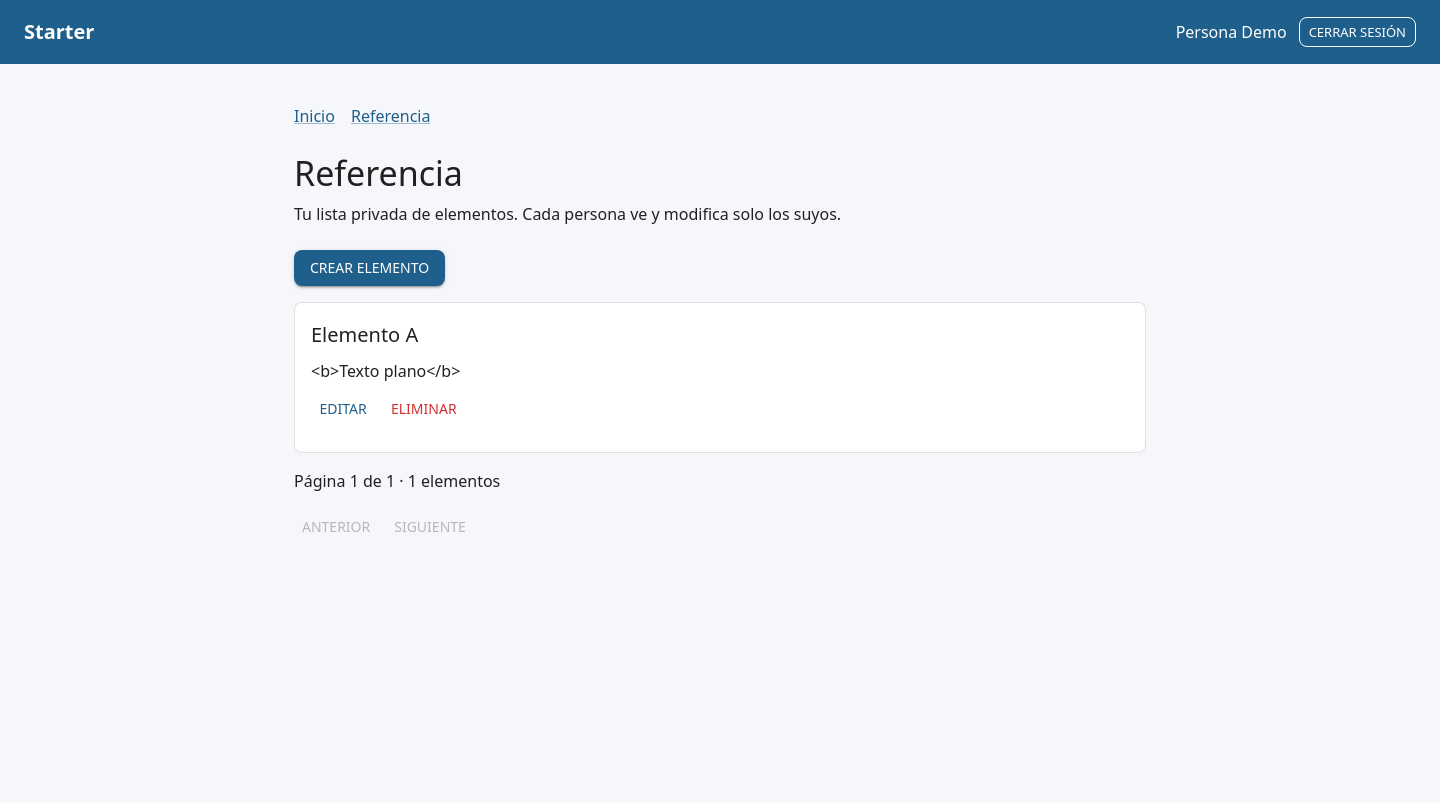
Test case: ReferencePage › edits and confirms deletion with keyboard, cancellation and restored focus
The width and height of the screenshot is (1440, 803).
Expected: the heading "Elemento A" is shown, [311,322,418,348]
Click the button with aria-label "Editar Elemento A": x=343, y=410 [311,392,375,428]
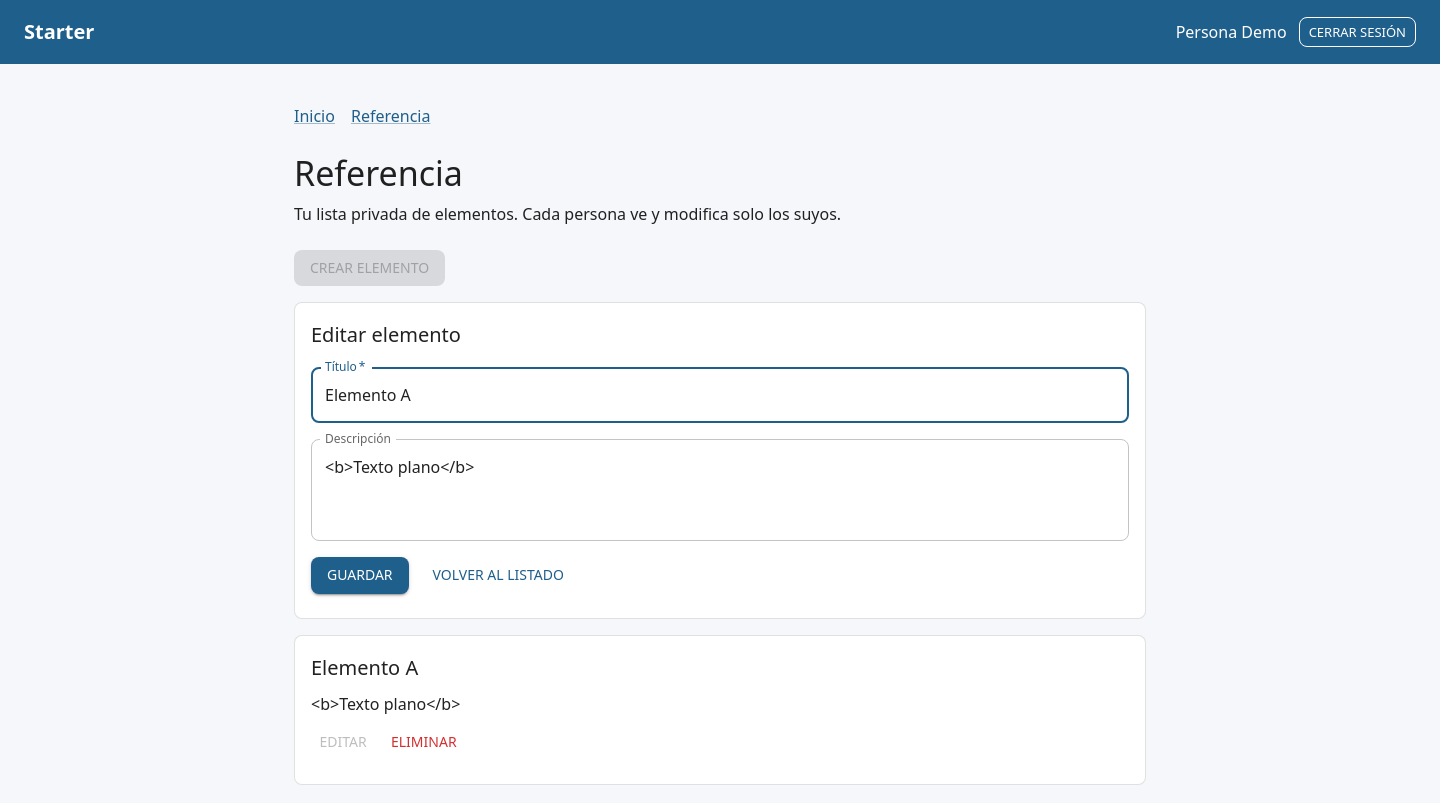
Replace the text in the field labelled "Título *" with "Elemento editado": x=720, y=396 [311,368,1129,424]
Click the button "Guardar": x=360, y=576 [311,558,408,594]
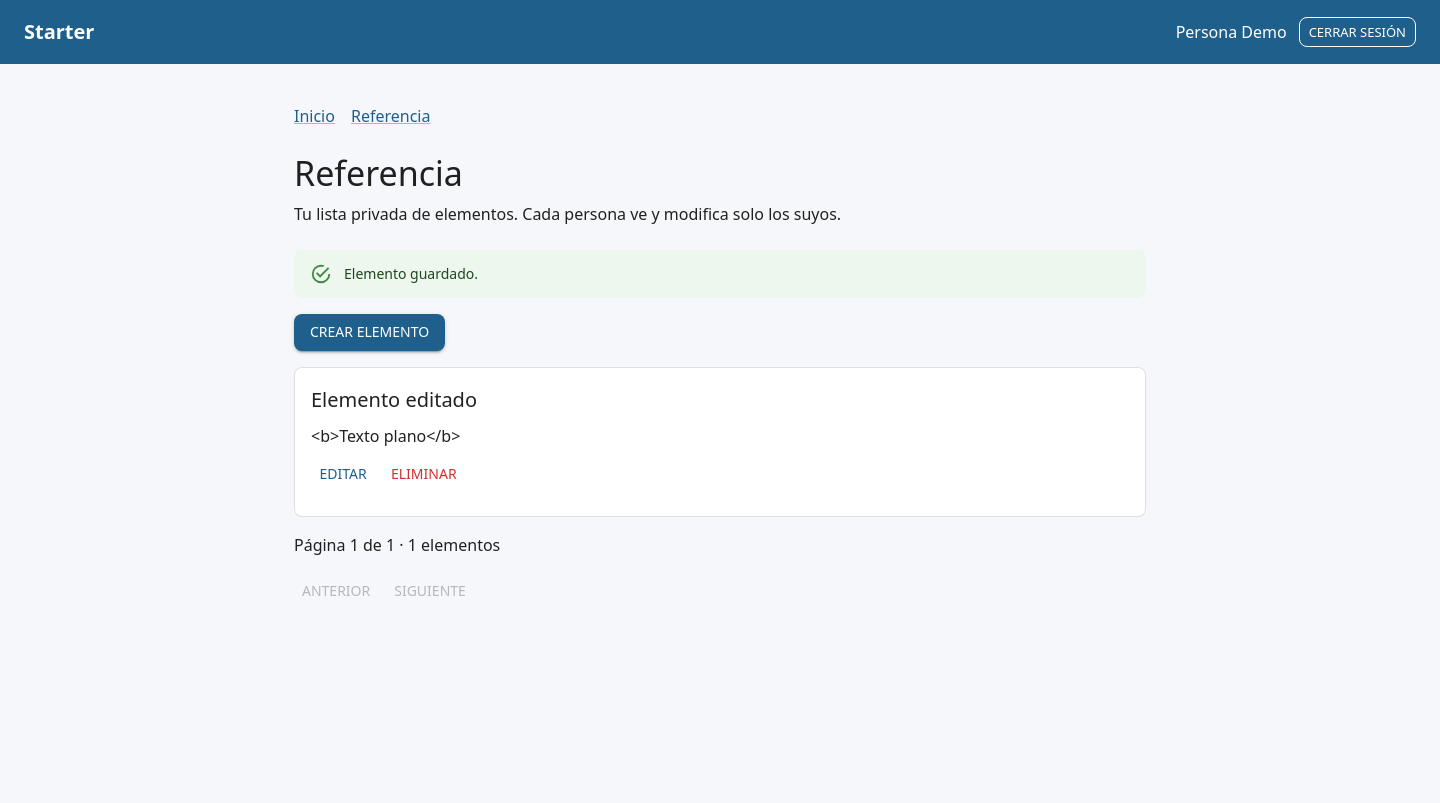
Expected: the heading "Elemento editado" is shown, [311,386,477,412]
Click the button with aria-label "Eliminar Elemento editado": x=424, y=474 [383,456,465,492]
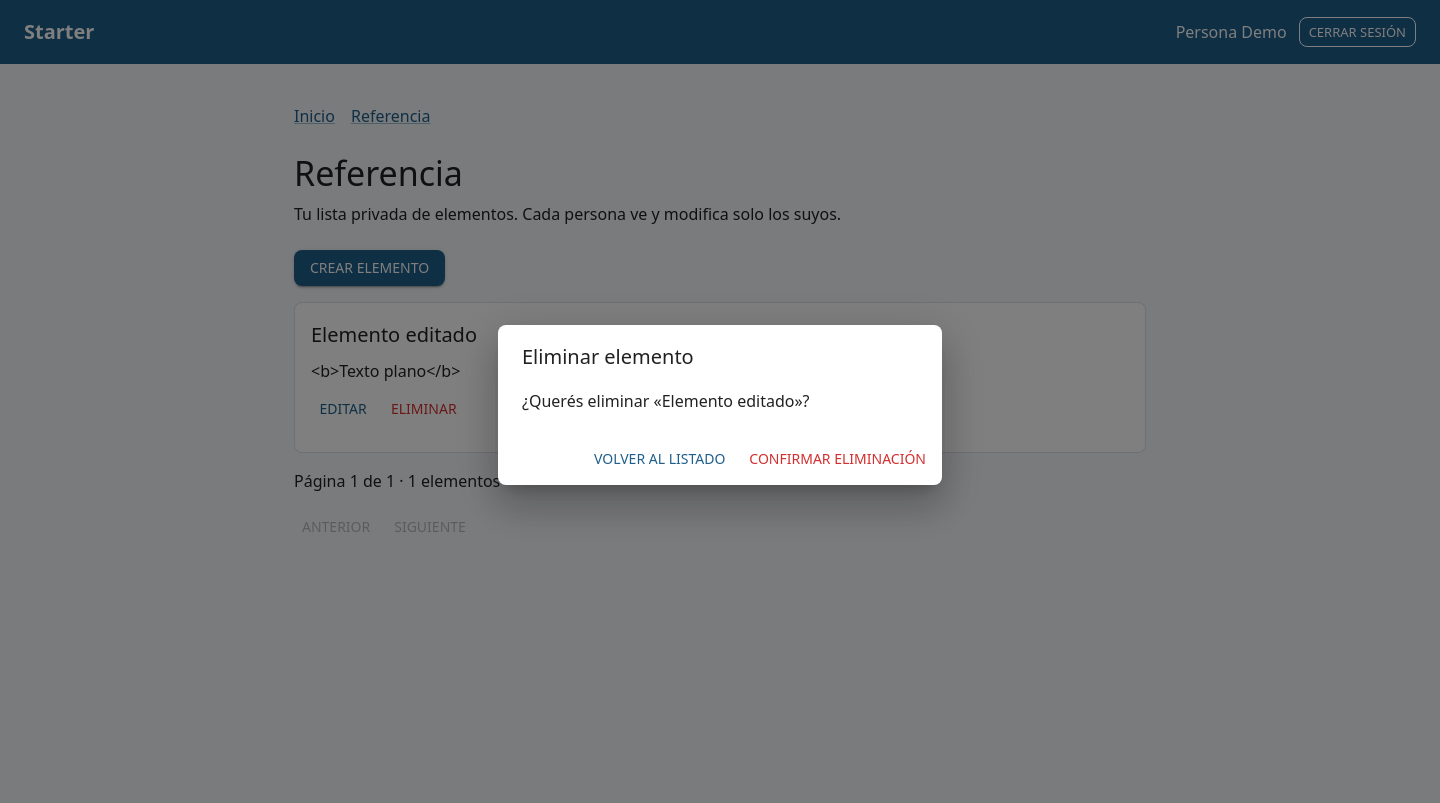
Click the button "Volver al listado": x=660, y=459 [586,441,733,477]
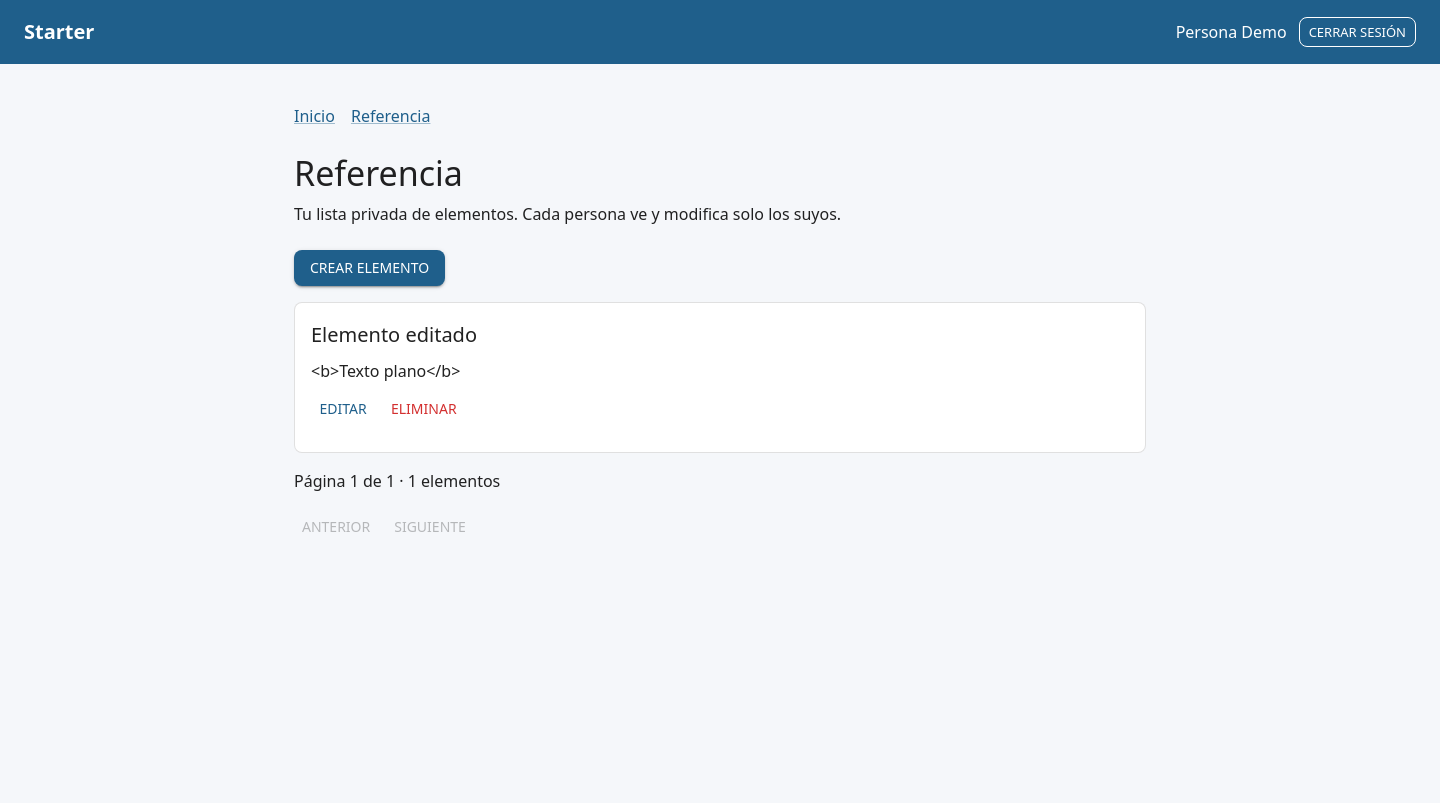
Click the button with aria-label "Eliminar Elemento editado": x=424, y=410 [383,392,465,428]
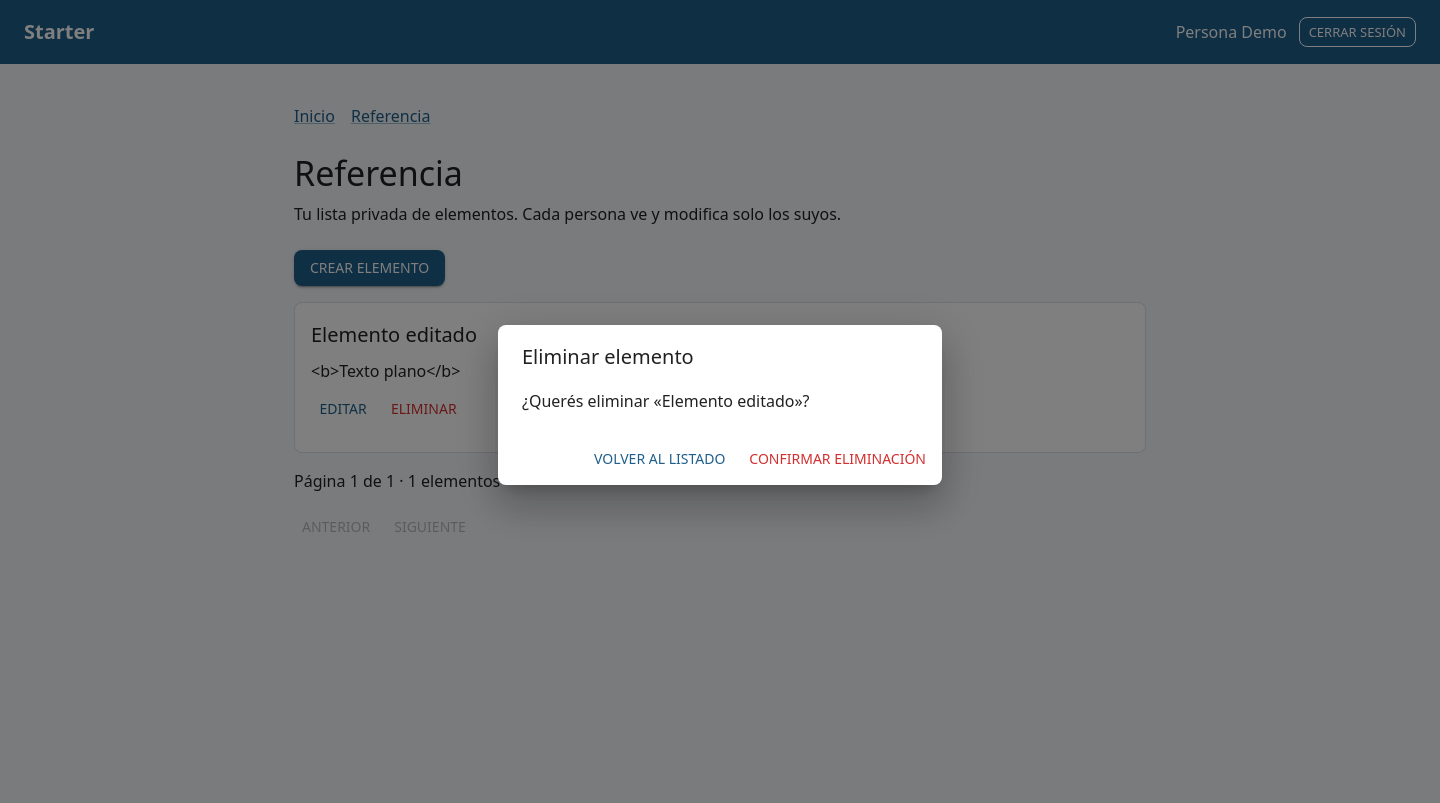
Press Enter
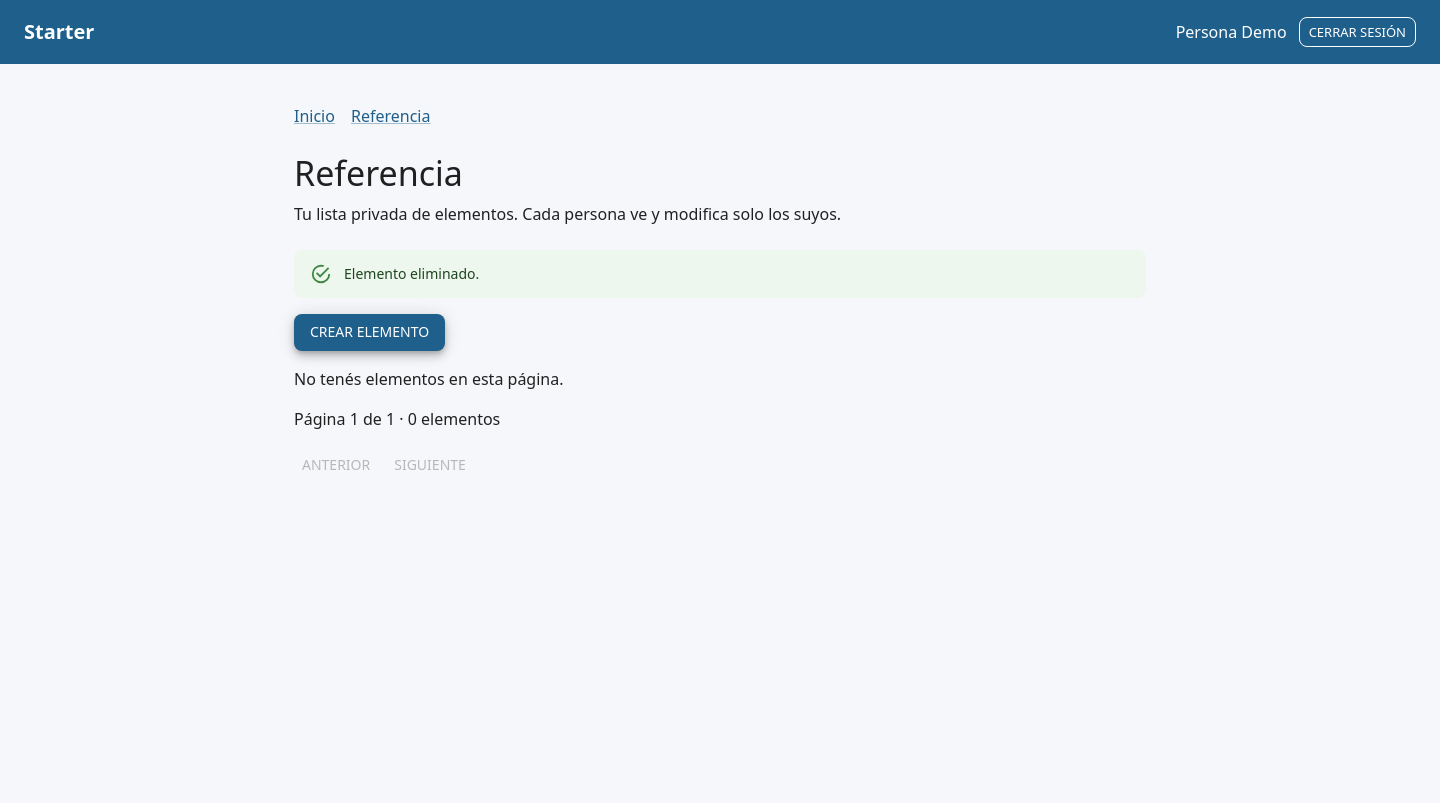
Expected: the text "Elemento eliminado." is shown, [344,264,479,283]
Expected: the text "No tenés elementos en esta página." is shown, [294,368,564,390]
